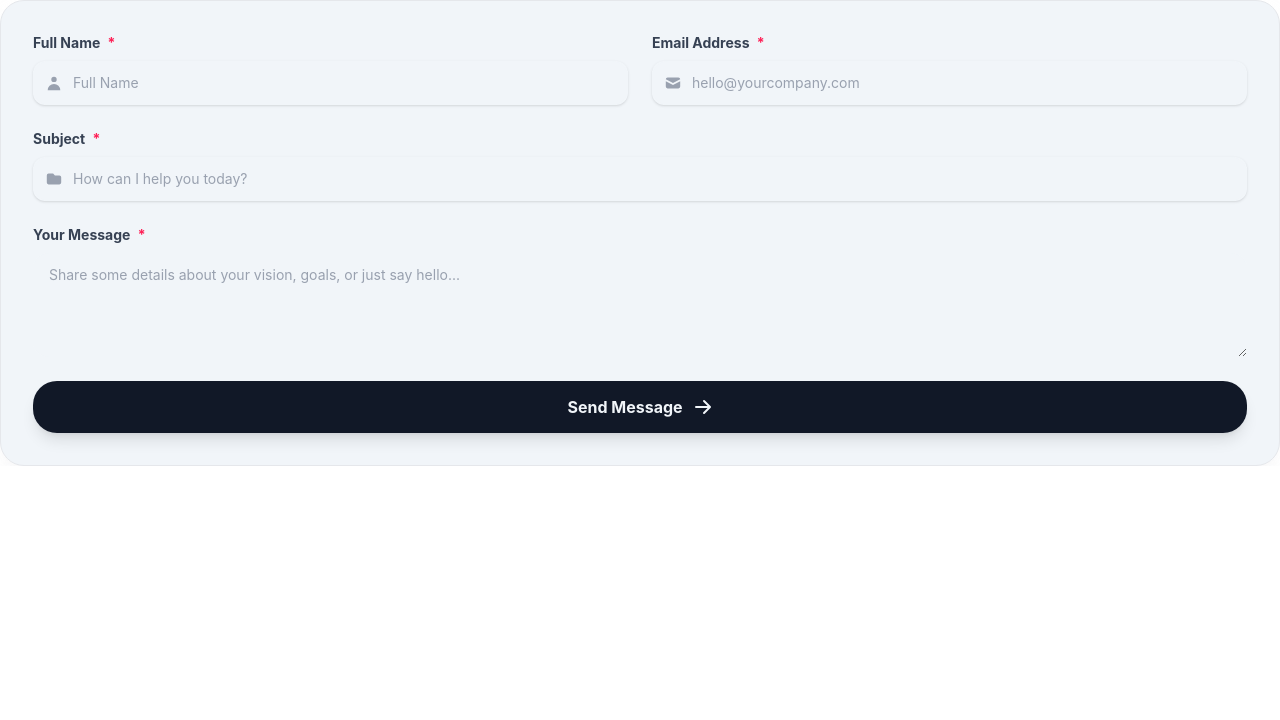
it: ContactForm › shows validation errors for empty fields on submit
Click the button "Send Message" at (640, 407), box [33,381,1247,433]
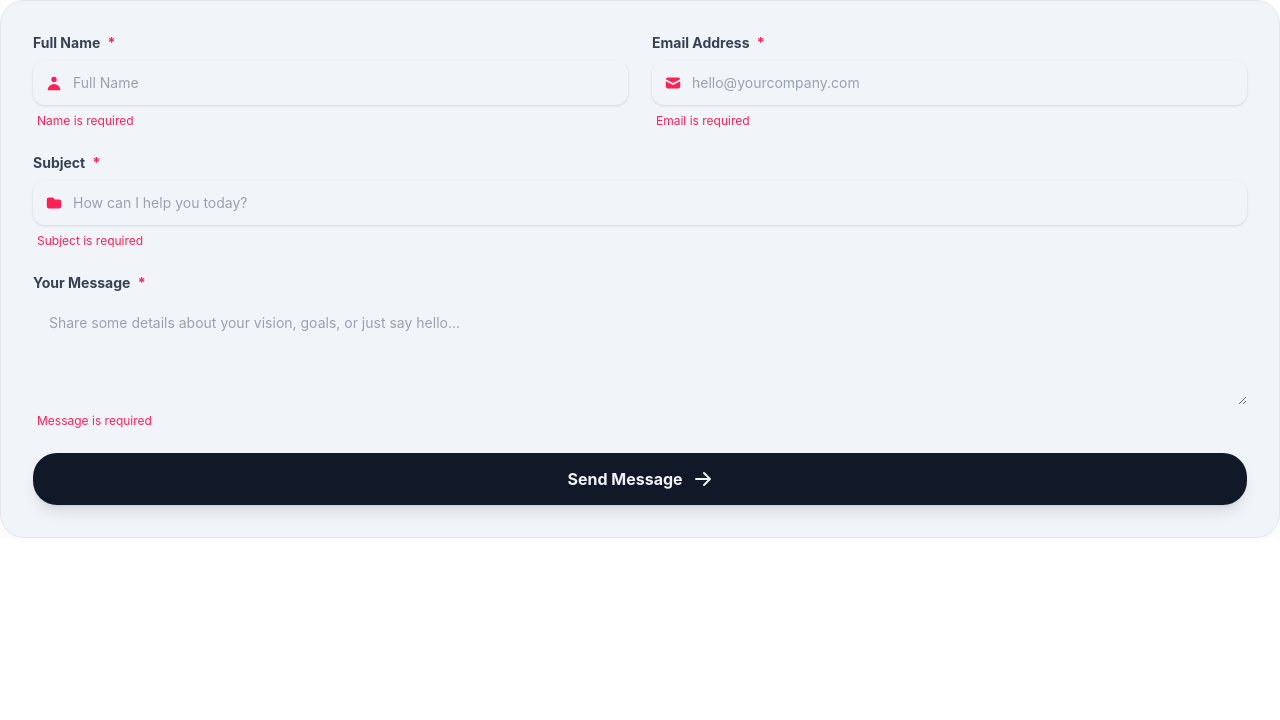
Expected: the text "Name is required" is shown, [37,113,134,128]
Expected: the text "Email is required" is shown, [656,113,750,128]
Expected: the text "Subject is required" is shown, [37,233,143,248]
